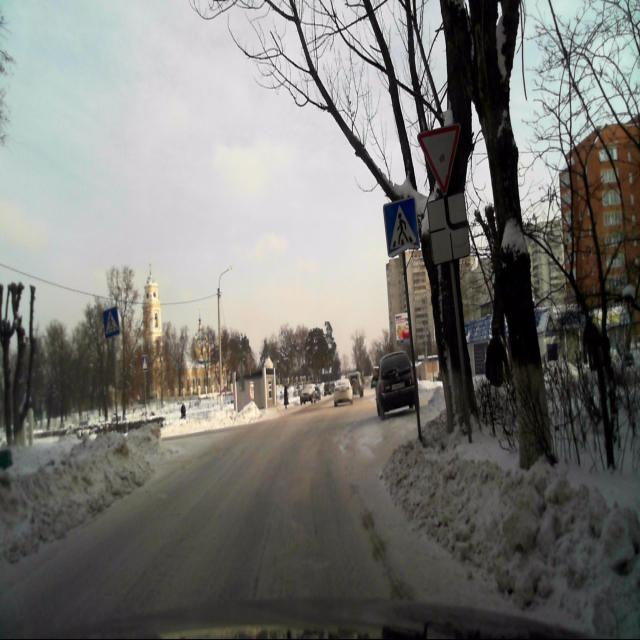road sign: (450, 260, 472, 444), (402, 254, 423, 444), (428, 191, 471, 266), (418, 126, 461, 196), (383, 197, 420, 258), (104, 305, 120, 337), (113, 335, 116, 432), (140, 357, 148, 371), (144, 372, 146, 421)
